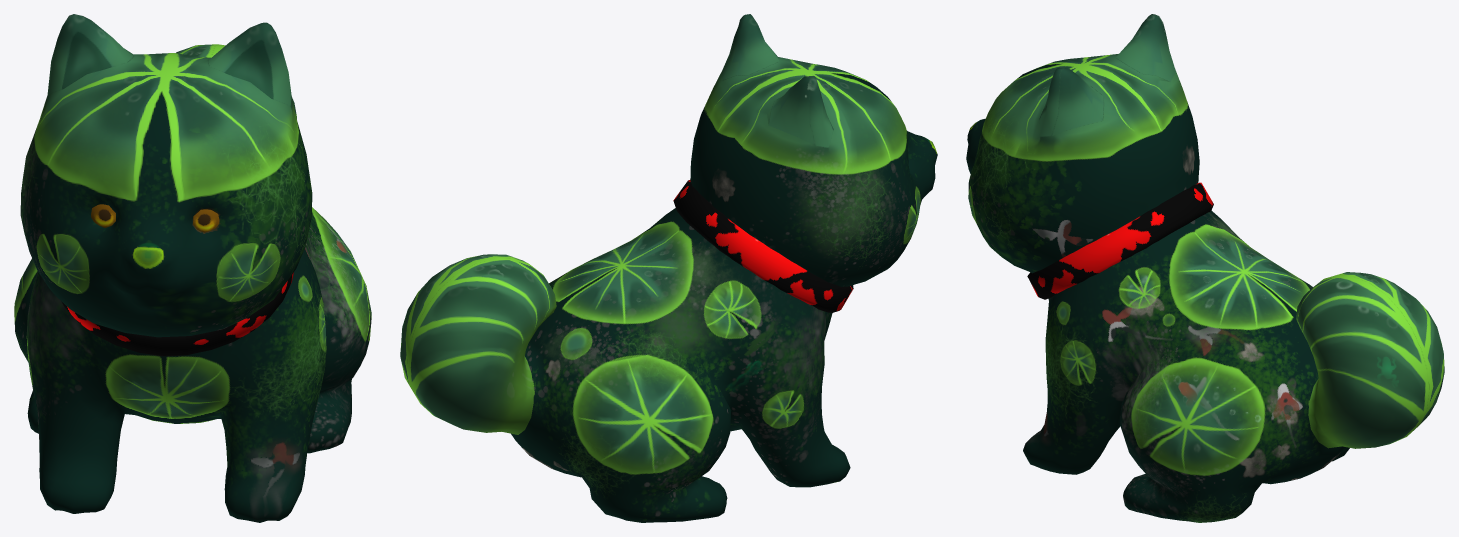
The model's file is shiba2.gltf.
3 renders of one model, left to right at view 1: azimuth 30°, elevation 25°; view 2: azimuth 150°, elevation 25°; view 3: azimuth 270°, elevation 25°, orthographic. The views are drawn at different scales.
Visible parts, largest first — view 1: Box002_default_0, Group18985_default_0, Object001_default_0; view 2: Box002_default_0, Group18985_default_0; view 3: Box002_default_0, Group18985_default_0.
Boxes of the visible parts, x1,y1,x2,y2 form: Box002_default_0: [14, 14, 371, 522]; Group18985_default_0: [61, 272, 293, 356]; Object001_default_0: [91, 204, 219, 232]; Box002_default_0: [400, 14, 937, 522]; Group18985_default_0: [673, 180, 853, 312]; Box002_default_0: [966, 14, 1444, 522]; Group18985_default_0: [1027, 182, 1213, 299].
Bounding box in the file's own units: 126 × 138 × 149.
Materials: 1 (1 with a texture image).
